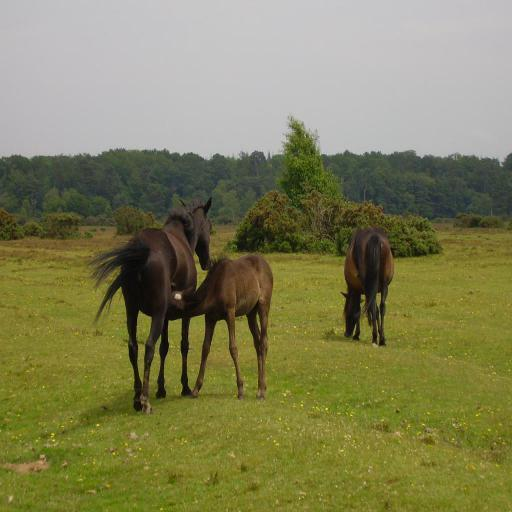horse: (84, 198, 214, 413), (166, 256, 278, 402), (340, 222, 396, 352)
